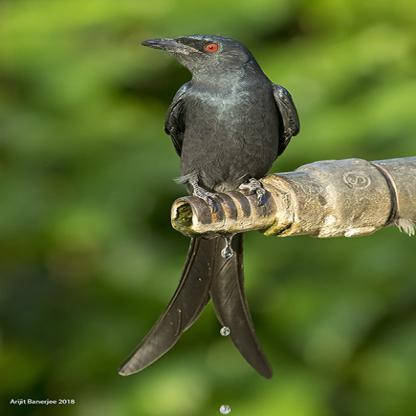Burung: (111, 29, 280, 379)
